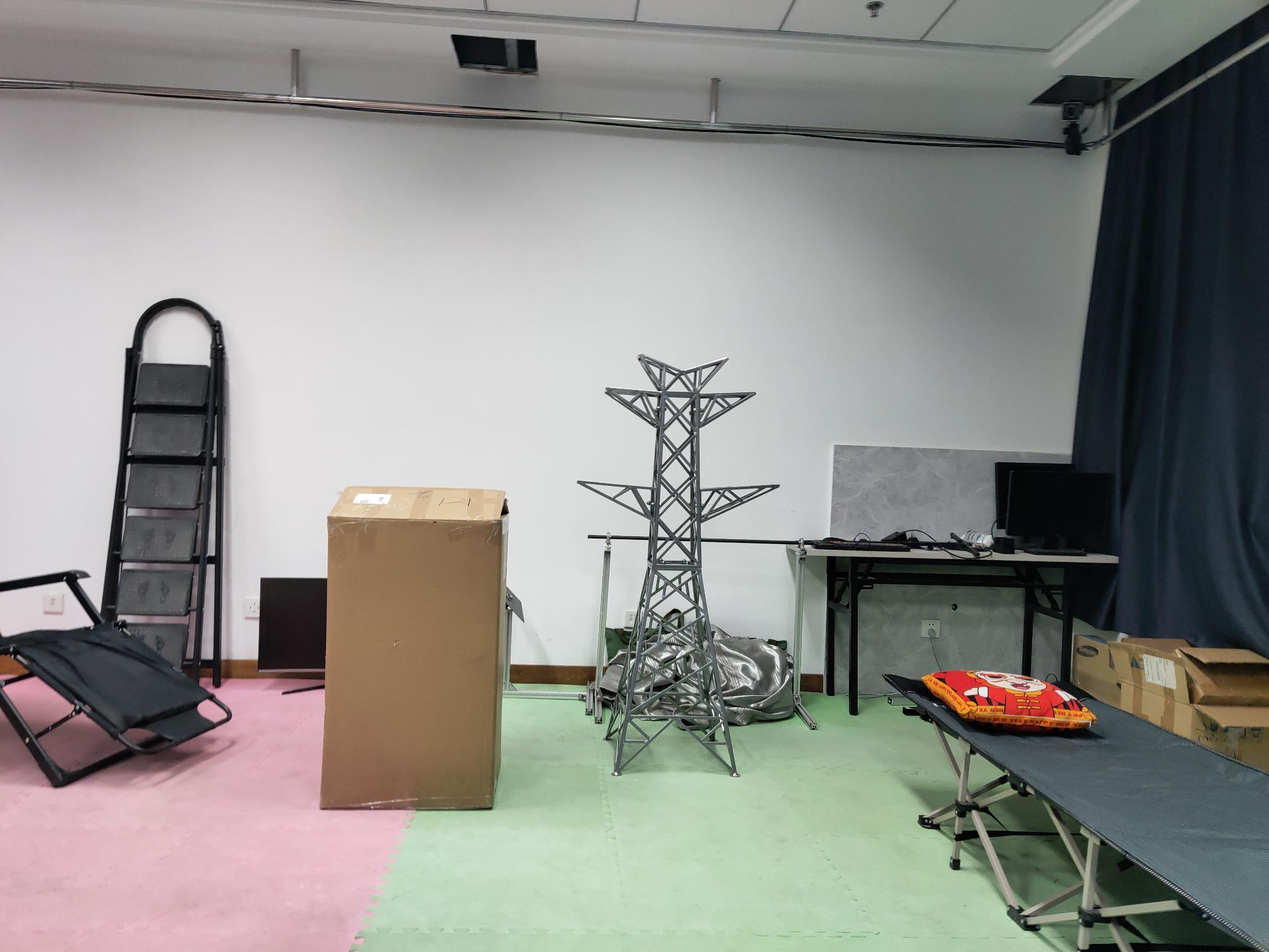tower: (577, 353, 778, 776)
